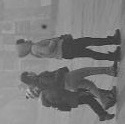person: (15, 61, 119, 109), (11, 26, 120, 62), (21, 84, 118, 121)
